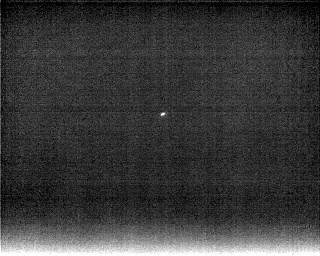BIRD: (158, 109, 168, 119)
